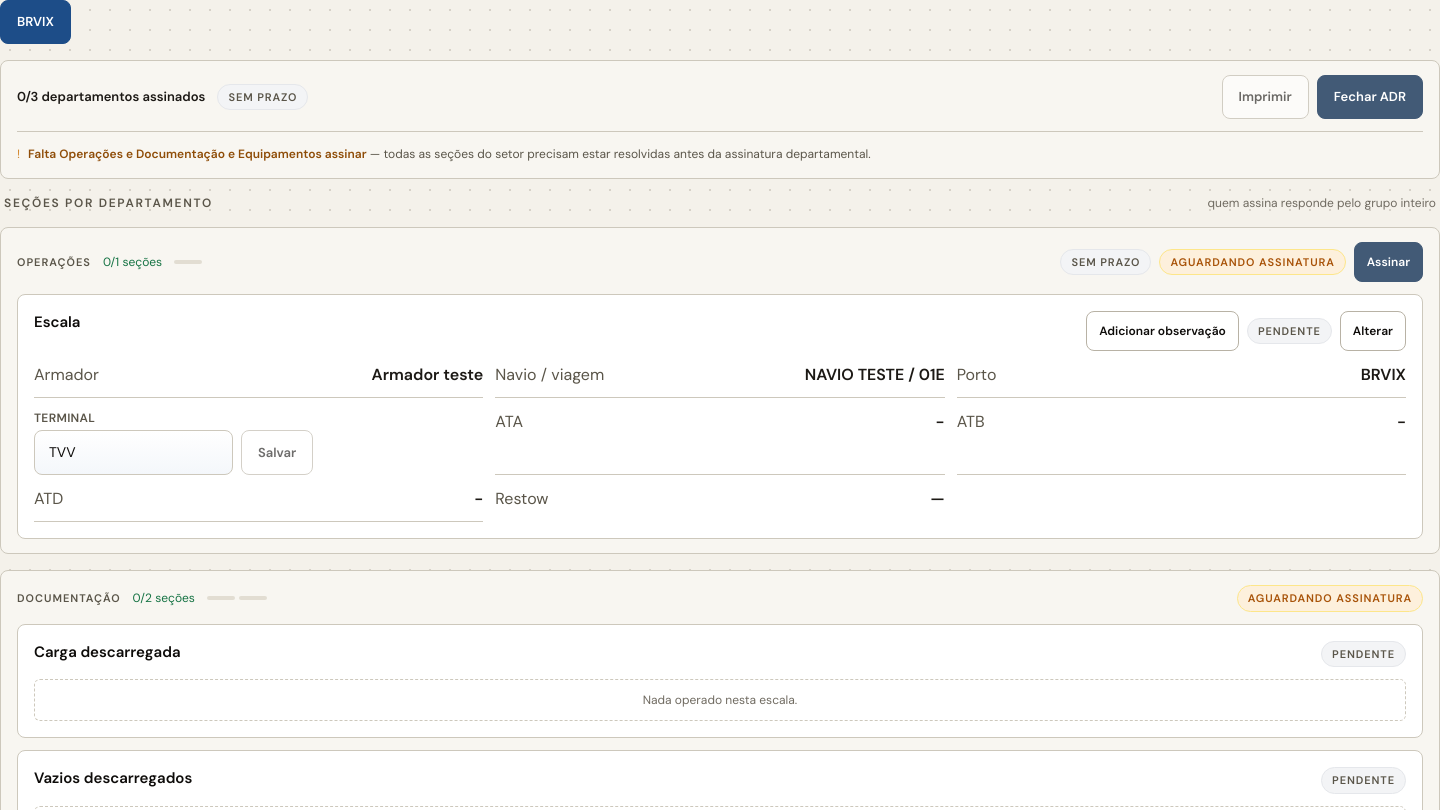
Test: sem observação escrita, só o dono vê o convite para adicionar uma
Expected: the field labelled "Observação — Escala" is not shown
Click the button "Adicionar observação" at (1163, 331), box top-left (1086, 311), bottom-right (1239, 351)
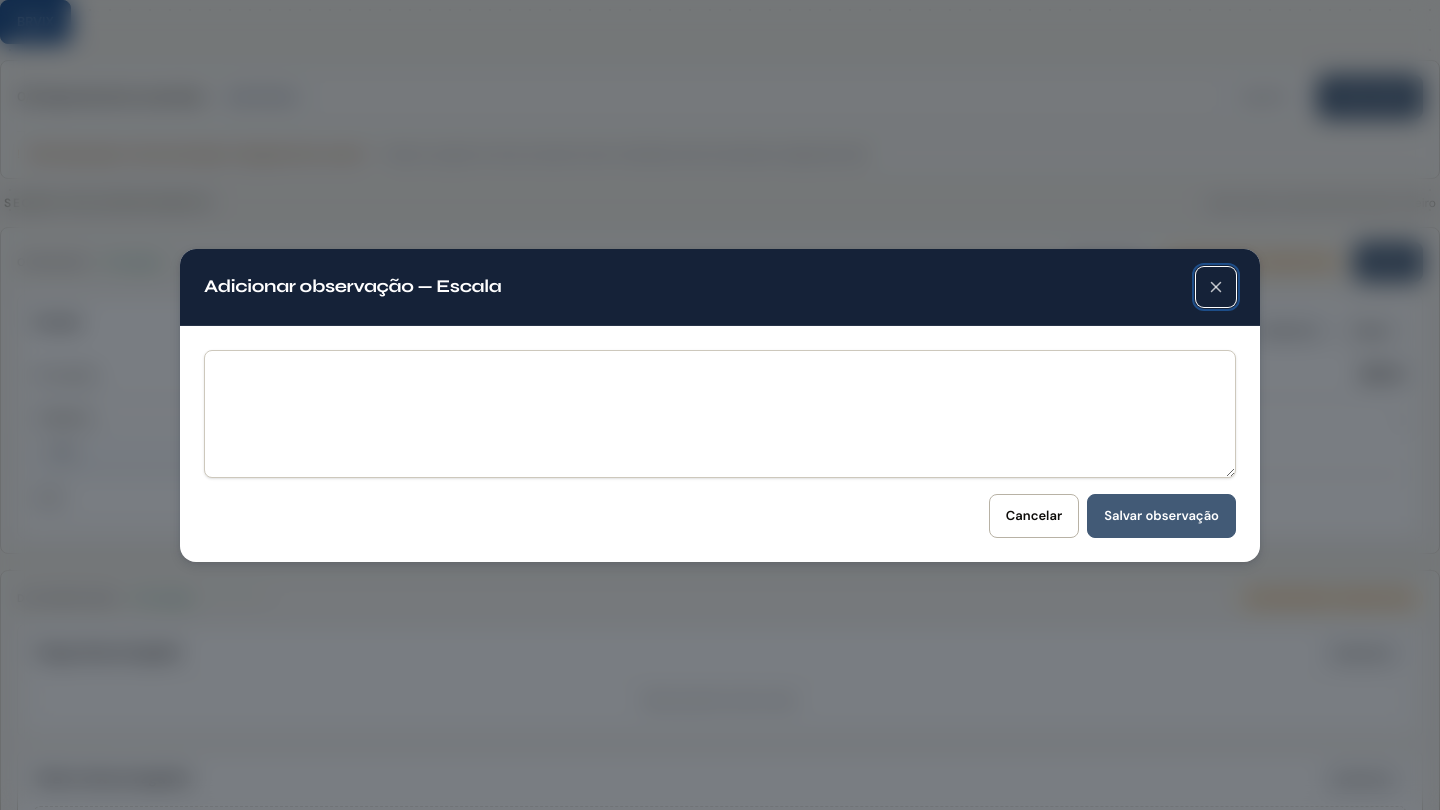
Result: the dialog "Adicionar observação — Escala" is shown at top-left (180, 248), bottom-right (1260, 562)
Result: the text box named "Observação — Escala" is shown at top-left (204, 350), bottom-right (1236, 478)
